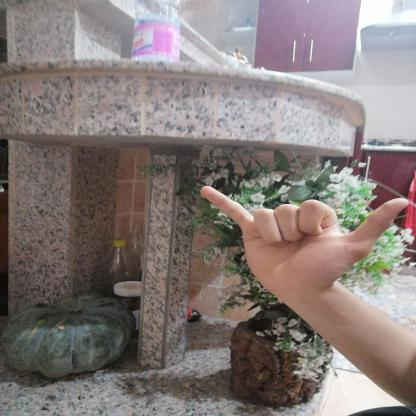YA: (184, 174, 416, 308)
